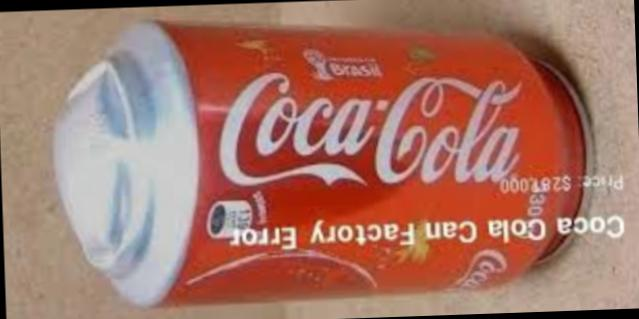metal: (57, 25, 590, 308)
